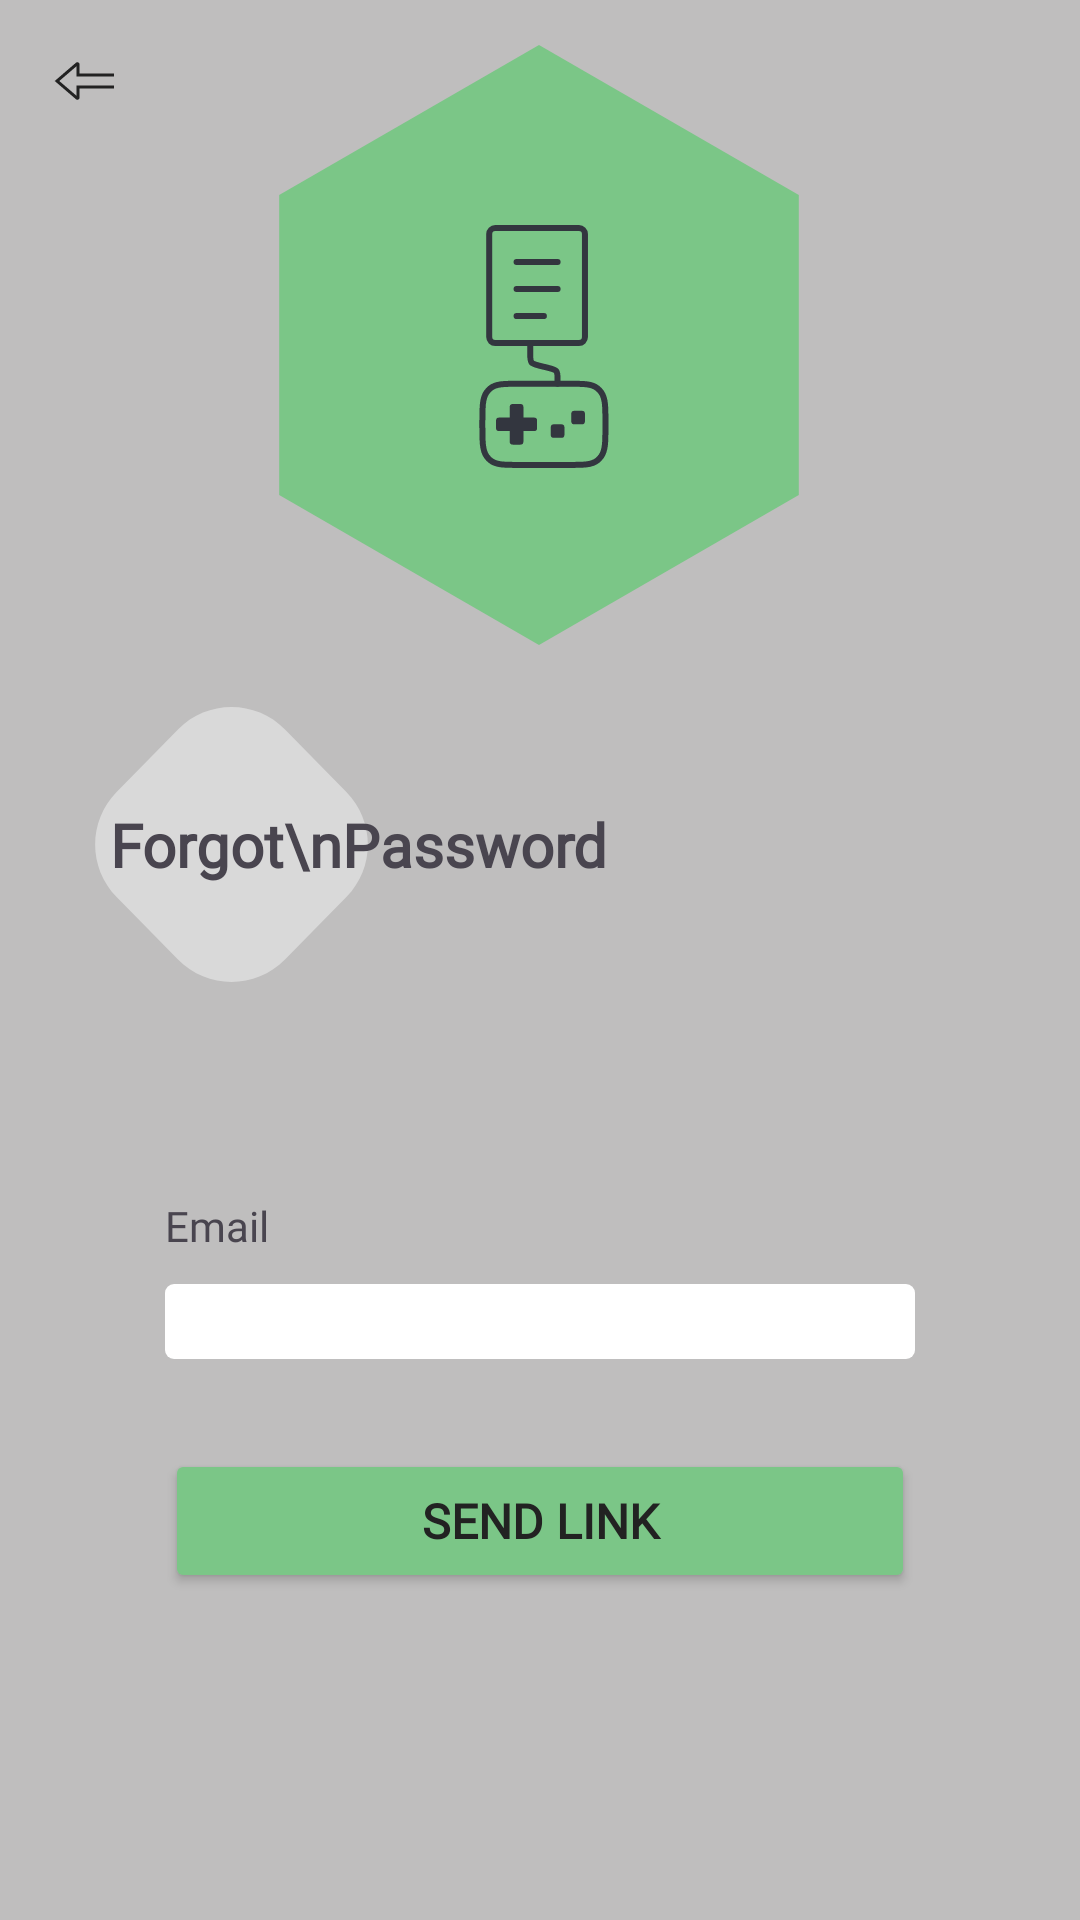

Named icons in this screenshot (1080px×1920px) and their bounding boxes, (x1, y1, x2, y2):
back arrow: (55, 62, 114, 100)
